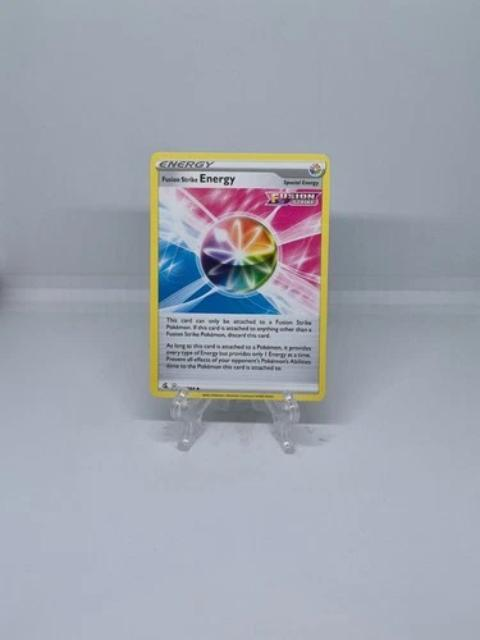Card: (146, 149, 333, 405)
Name: (156, 169, 239, 189)
